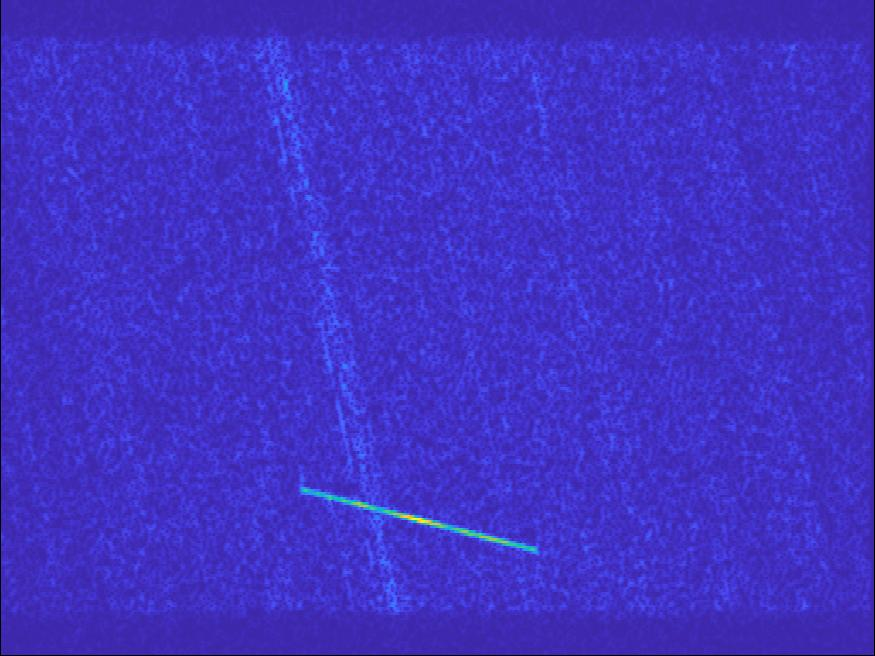Interference: (178, 1, 431, 207), (681, 295, 872, 370), (338, 357, 443, 451), (280, 292, 408, 342), (328, 41, 446, 81)
